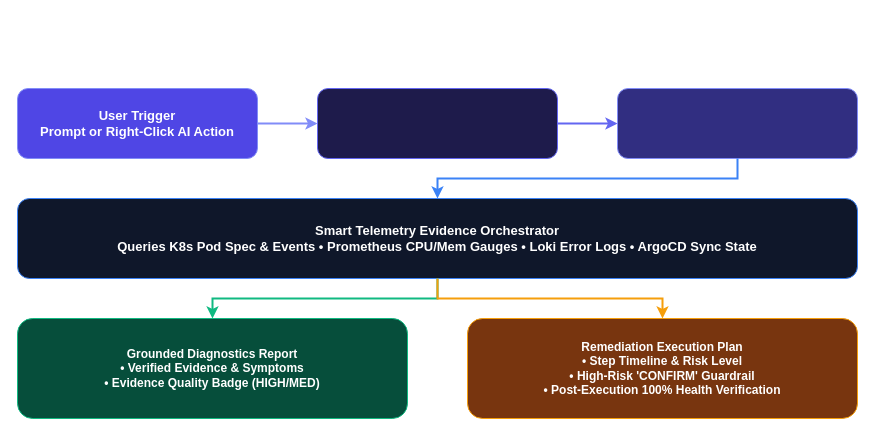
The diagram is 875 pixels wide and 436 high, and some of its shapes have lost their labels. The centre of each missing label's shape, as x and y in pixels:
"Intent Classification ROOT_CAUSE / OOM / RESTART" goes at (437,123).
"Investigation Planner Builds 5 Evidence Steps" goes at (737,123).
